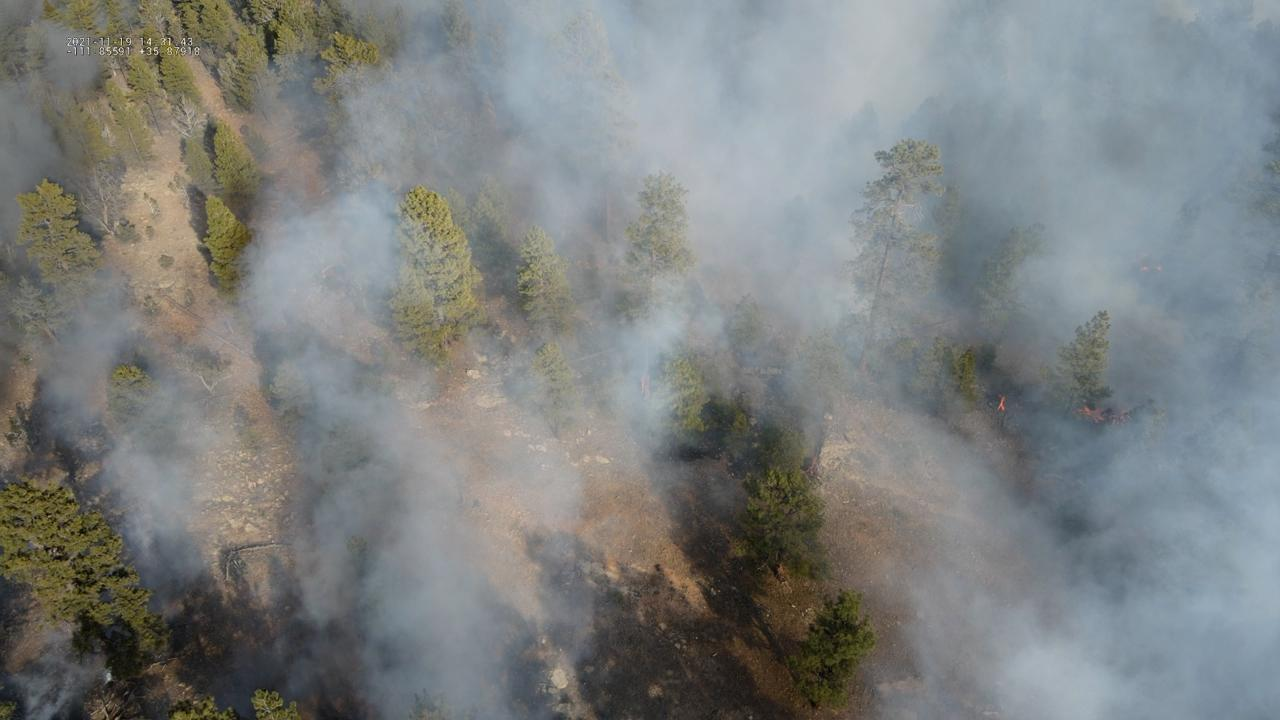fire: (1078, 403, 1108, 427), (995, 394, 1009, 412)
smoke: (0, 0, 1280, 720)
